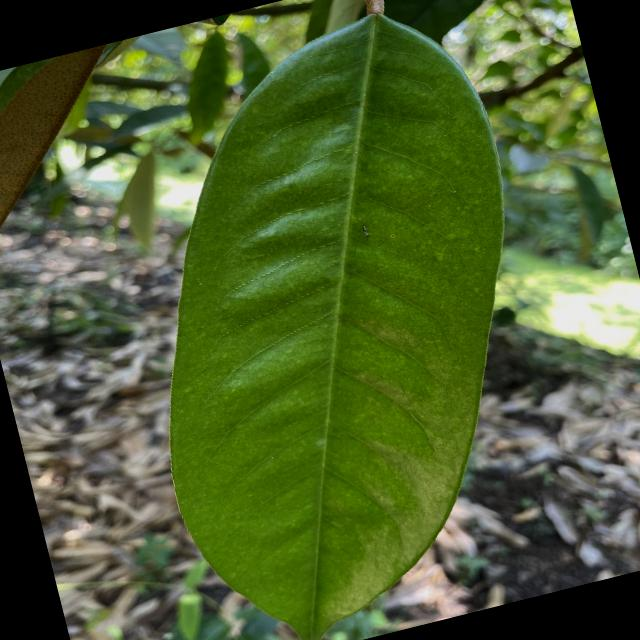No Disease: (67, 0, 612, 639)
